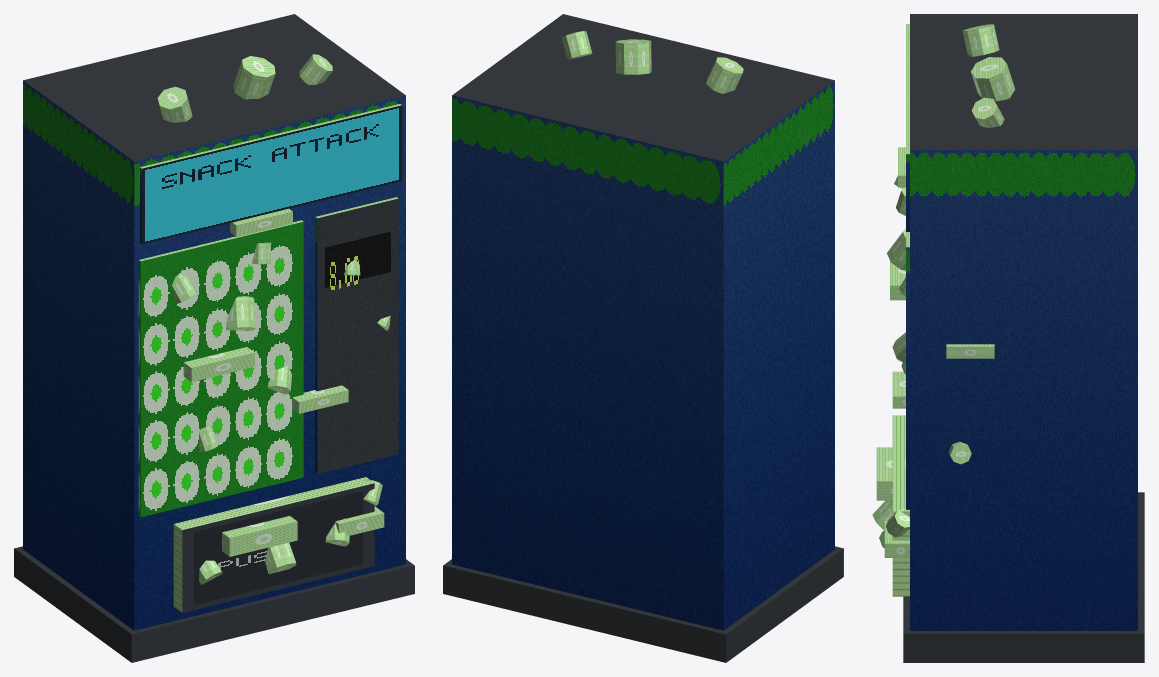
File: prop_vending_machine_fungus_harvested.glb
3 renders of one model, left to right at view 1: azimuth 30°, elevation 25°; view 2: azimuth 150°, elevation 25°; view 3: azimuth 270°, elevation 25°, orthographic. The views are drawn at different scales.
Parts seen in each view (by area): view 1: Prop_Vending_Machine_Fungus_Harvested; view 2: Prop_Vending_Machine_Fungus_Harvested; view 3: Prop_Vending_Machine_Fungus_Harvested.
Part boxes in pixels (left/top/right/bottom): Prop_Vending_Machine_Fungus_Harvested: left=14, top=14, right=414, bottom=662; Prop_Vending_Machine_Fungus_Harvested: left=443, top=14, right=843, bottom=662; Prop_Vending_Machine_Fungus_Harvested: left=872, top=14, right=1144, bottom=662.
Size of the model in its own units: 1.27 by 2.24 by 1.02.
1 material, 1 textured.
